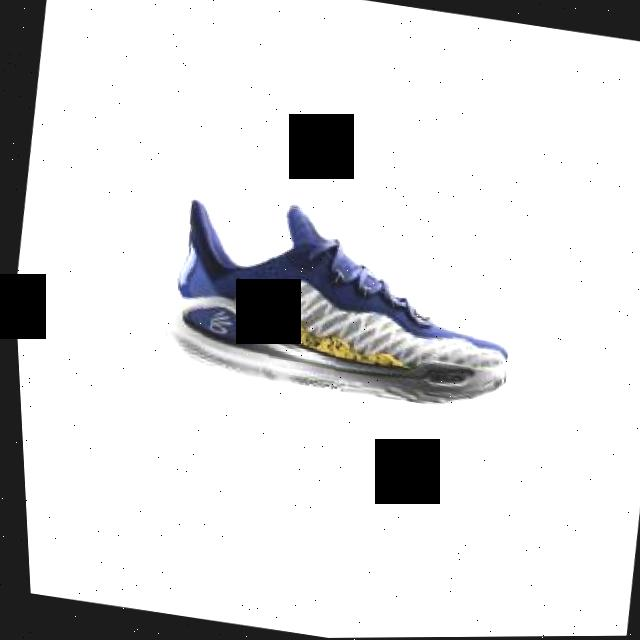shoe: (146, 187, 526, 419)
